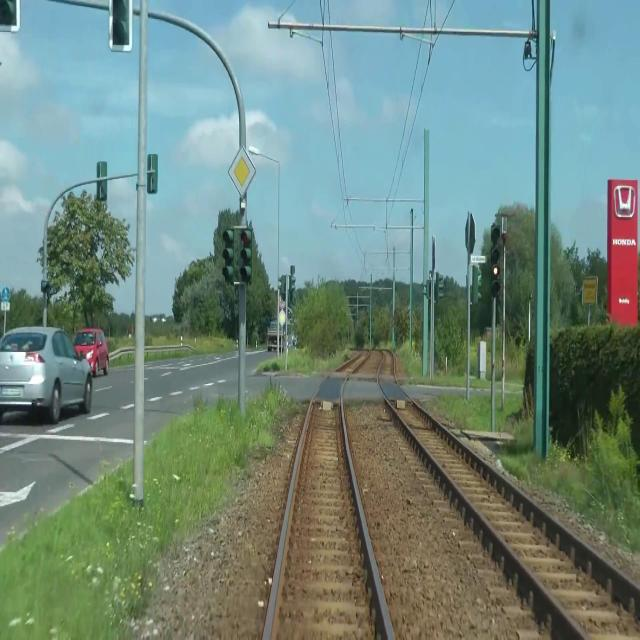rail-track: (379, 352, 640, 639), (269, 350, 388, 639)
